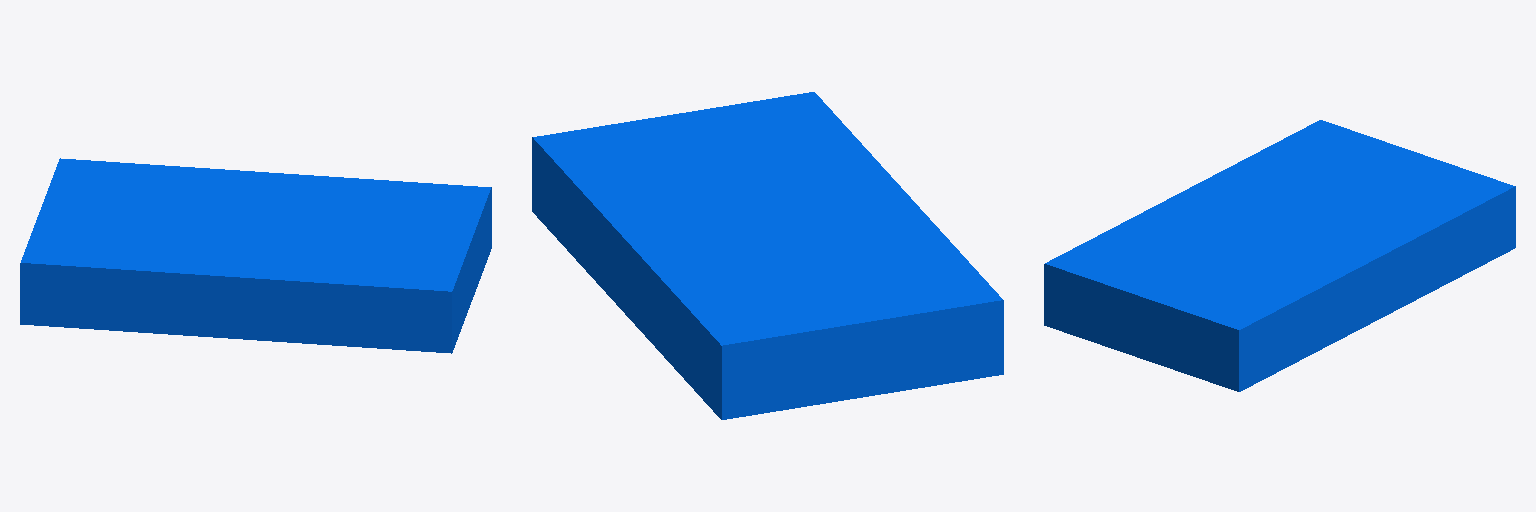
The robot description file, URDF, robot "Interference":
<?xml version="1.0"?>
<robot name="Interference">
  <link name="baseLink">
    <inertial>
      <origin xyz="0.0 0.0 0.0" rpy="0.0 0.0 0.0"/>
      <inertia ixx="0.0" ixy="0.0" ixz="0.0" iyy="0.0" iyz="0.0" izz="0.0"/>
      <mass value="0"/>
    </inertial>
    <visual>
      <origin xyz="0.0 0.0 0.0" rpy="0.0 0.0 -0.6811285788272906"/>
      <geometry>
        <box size="0.06409737175323255 0.03664965492274592 0.01"/>
      </geometry>
      <material name="color">
        <color rgba="0.03612118707963918 0.496507625644504 0.9993674873060967 1.0"/>
      </material>
    </visual>
  </link>
</robot>

--- Render facts (derived) ---
Views: 3 orthographic renders of the robot side by side, from view 1: azimuth 30°, elevation 25°; view 2: azimuth 150°, elevation 25°; view 3: azimuth 270°, elevation 25°.
Robot: Interference — 1 links, 0 joints (none); root link baseLink; default pose: all joints at 0.
Links seen in each view (by area): view 1: baseLink; view 2: baseLink; view 3: baseLink.
Boxes of the visible links, box(x1,y1,x2,y2) form: baseLink: box(20, 158, 491, 353); baseLink: box(532, 92, 1003, 419); baseLink: box(1044, 120, 1515, 391).
Size in the robot's own frame: 0.0729 by 0.0688 by 0.01 metres.
Geometry: primitives only (box / cylinder / sphere), no mesh files.